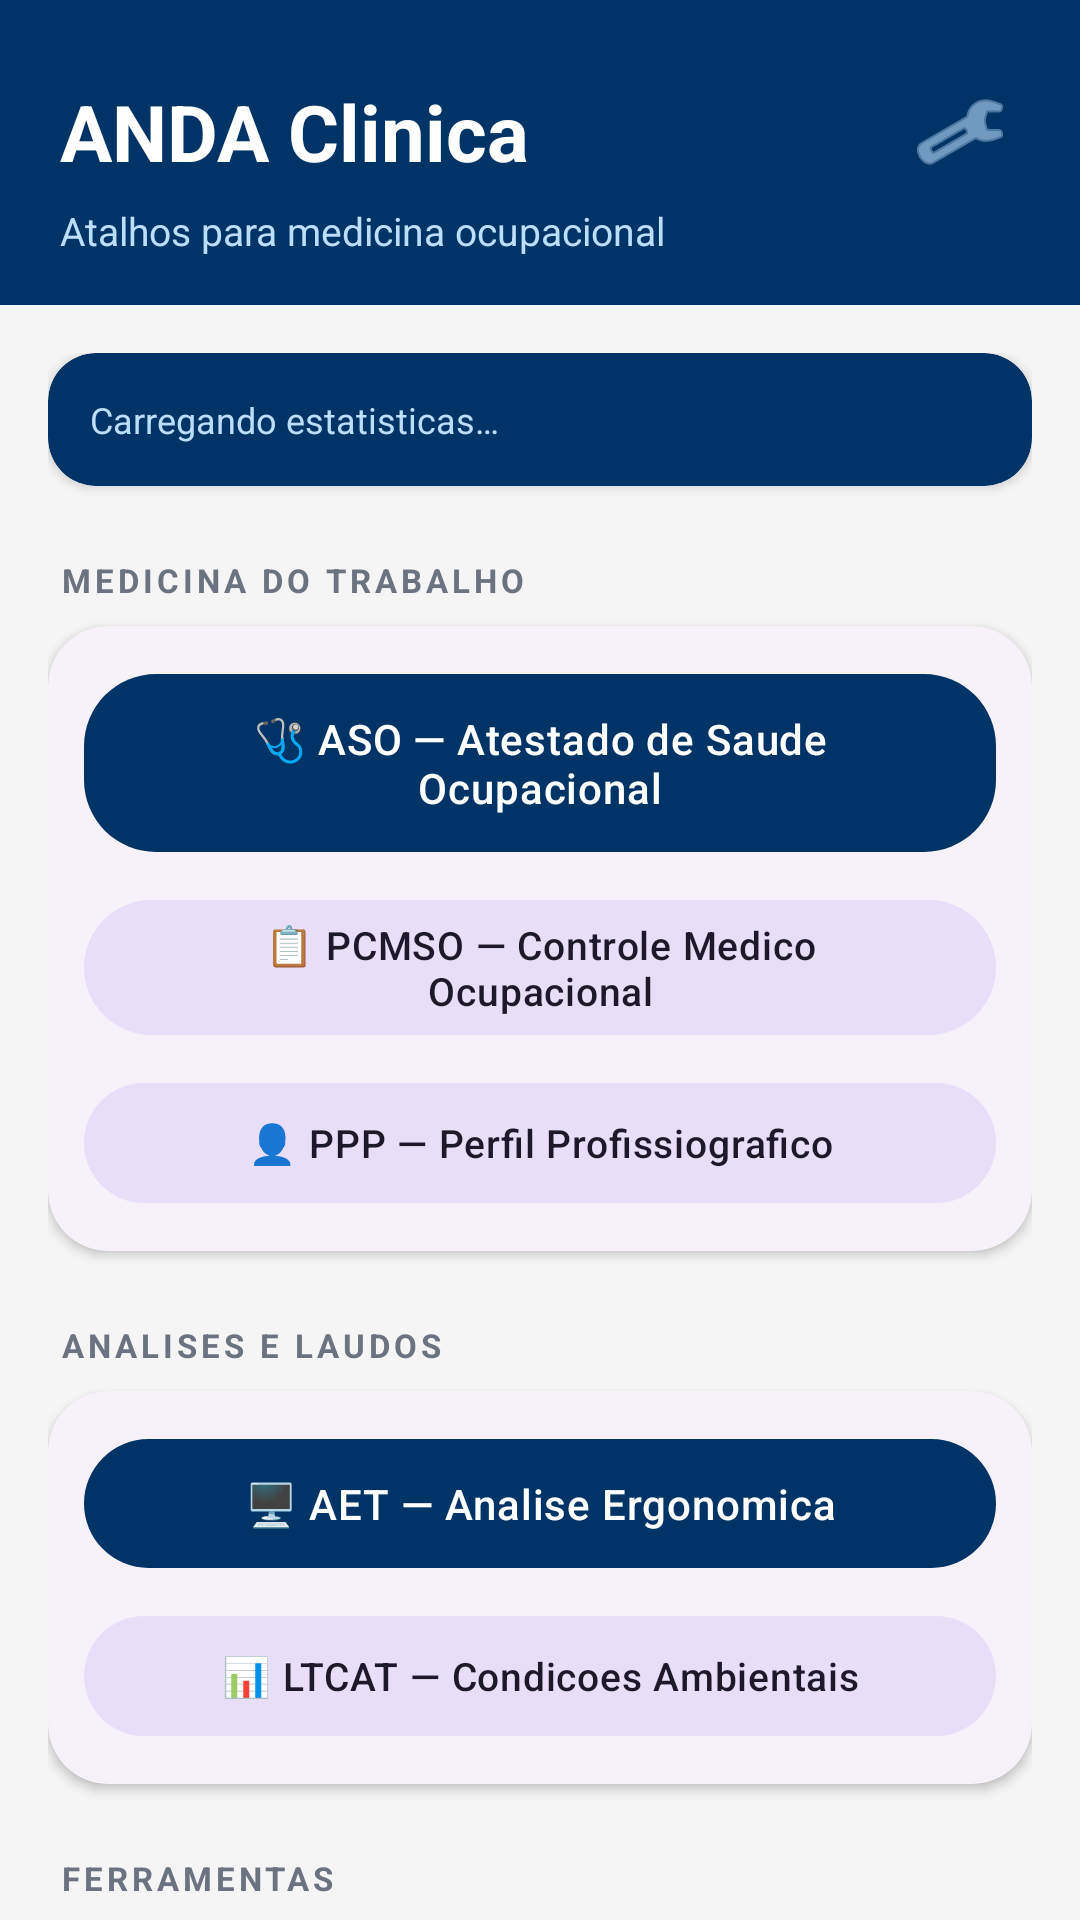

Where to tap for icons on this 1080px x 1920px app screen, as [x,y]:
Configuracoes: [960,132]
